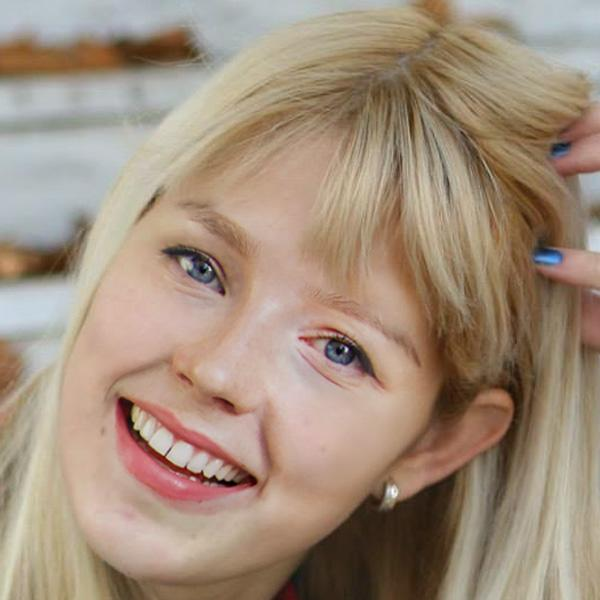Eyes: (292, 314, 385, 393), (157, 236, 231, 305)
